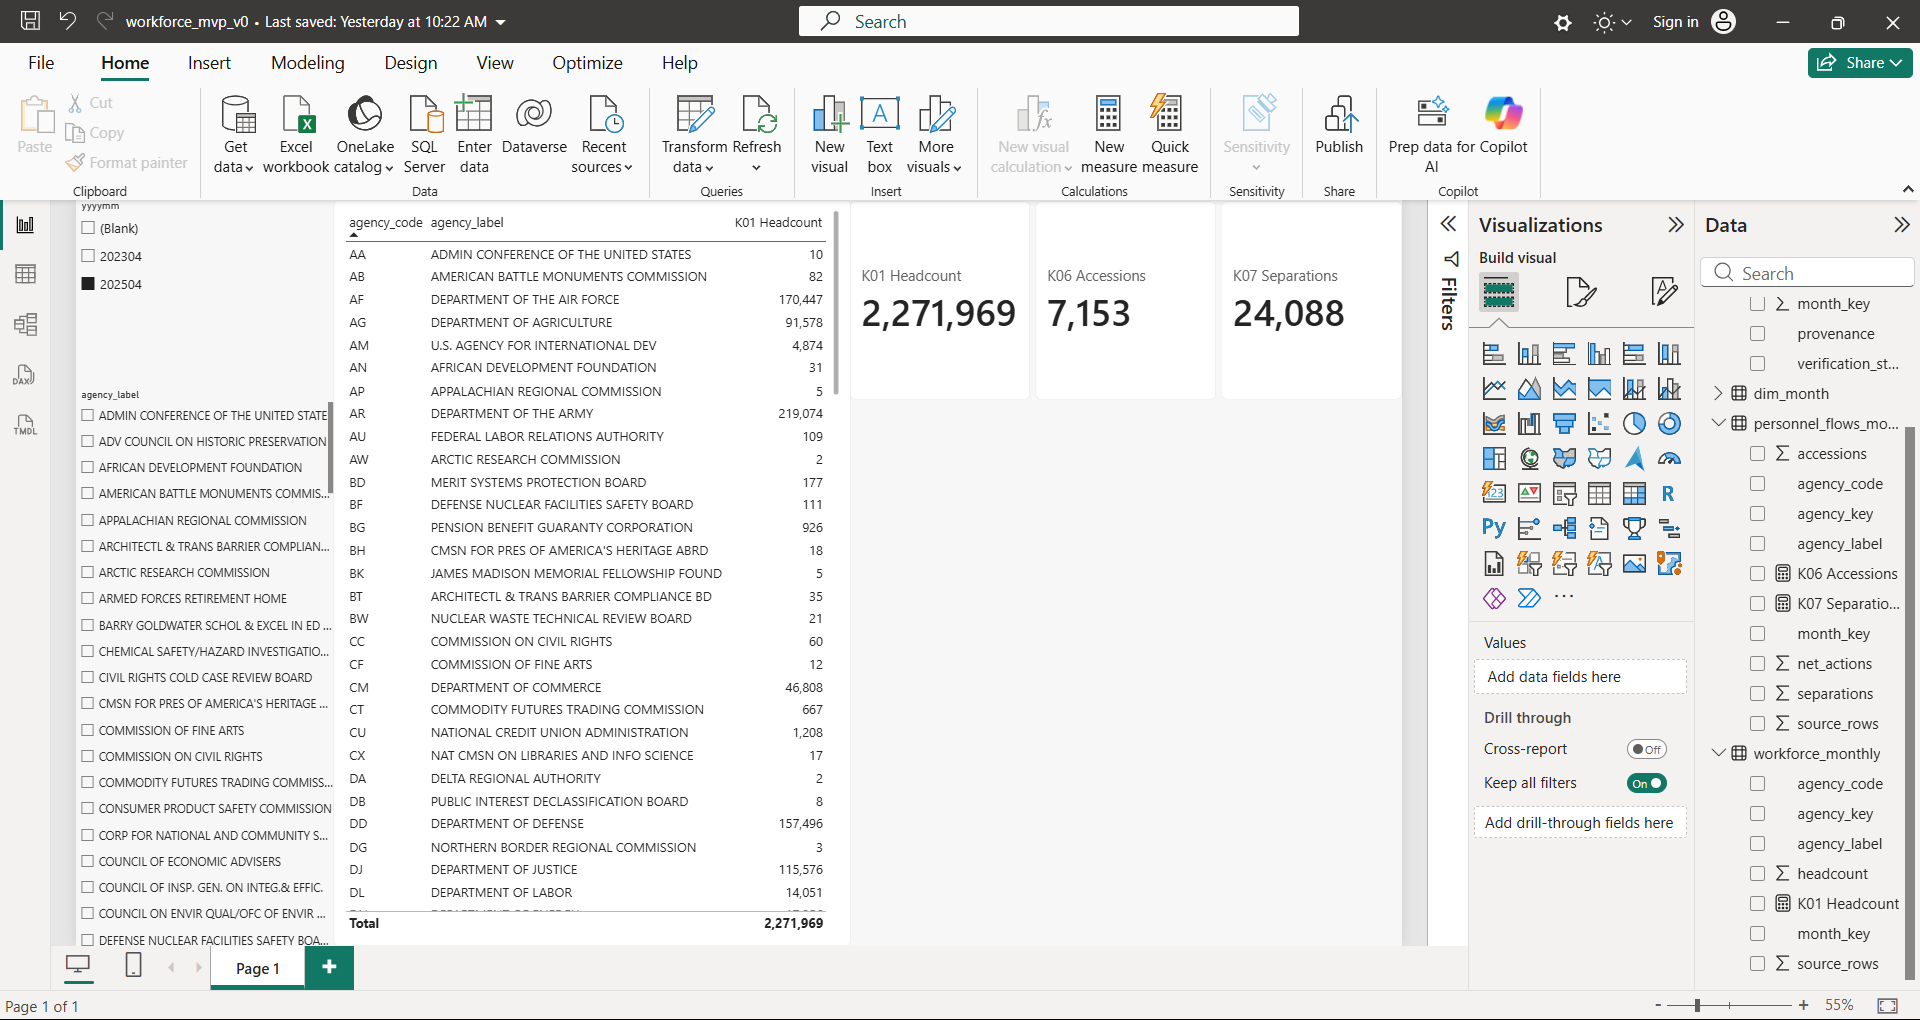

The page's visual inventory and layout, read from the dashboard file:
{"tool":"powerbi","page":{"name":"Page 1","canvas":[1920,1080],"ordinal":0},"visuals":[{"type":"slicer","fields":{"Values":["dim_month.yyyymm"]},"box":[0,0,372.8,280.5],"z":0},{"type":"slicer","fields":{"Values":["dim_agency.agency_label"]},"box":[0,280.5,340.2,799.9],"z":1},{"type":"cardVisual","fields":{"Data":["workforce_monthly.K01 Headcount","personnel_flows_monthly.K06 Accessions","personnel_flows_monthly.K07 Separations","dim_action_category.K03 MoM %","dim_action_category.K04 Agency Share","dim_action_category.K02 Change","personnel_flows_monthly.K08 Event Difference"]},"box":[340.2,0,1565.4,318.5],"z":2},{"type":"tableEx","fields":{"Values":["dim_agency.agency_code","dim_agency.agency_label","workforce_monthly.K01 Headcount"]},"box":[354.7,320.3,727.5,760.1],"z":3}]}

Visuals, with their boxes on the page's 1920x1080 design canvas (x1, y1, x2, y2). These are canvas units, not pixel positions in the 1920x1020 screenshot, which may show the page scaled, cropped or inside an application window:
slicer - dim_month.yyyymm: [x1=0, y1=0, x2=373, y2=280]
slicer - dim_agency.agency_label: [x1=0, y1=280, x2=340, y2=1080]
cardVisual - workforce_monthly.K01 Headcount x personnel_flows_monthly.K06 Accessions: [x1=340, y1=0, x2=1906, y2=318]
tableEx - dim_agency.agency_code x dim_agency.agency_label: [x1=355, y1=320, x2=1082, y2=1080]
